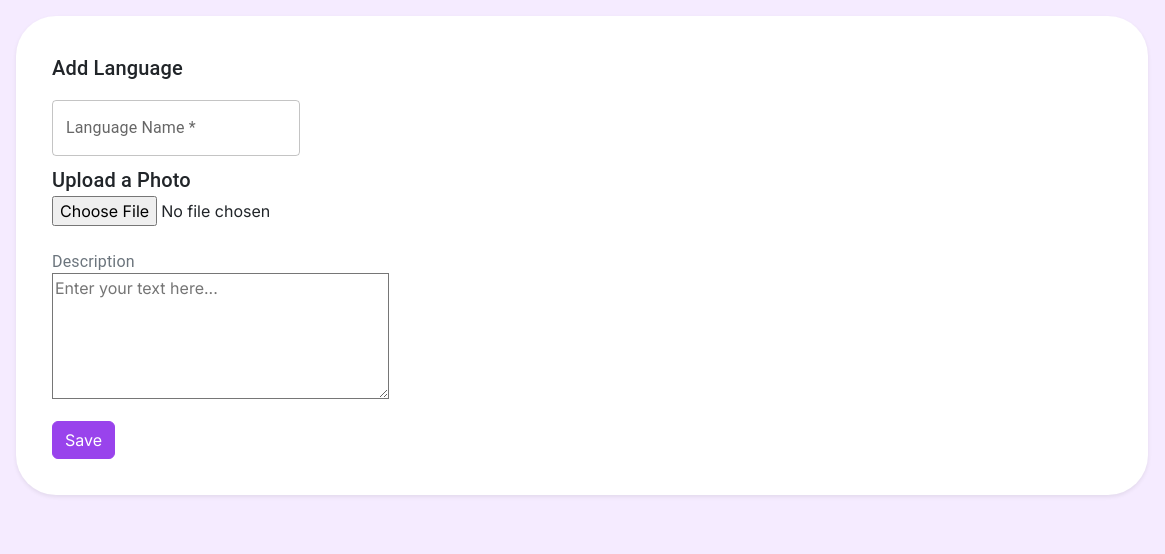
Scenario: Add Edit Language Component › should display validation errors for empty form submission
Click the button with test id "submitBtn". click: click(84, 440)
box: top-left (52, 421), bottom-right (115, 459)
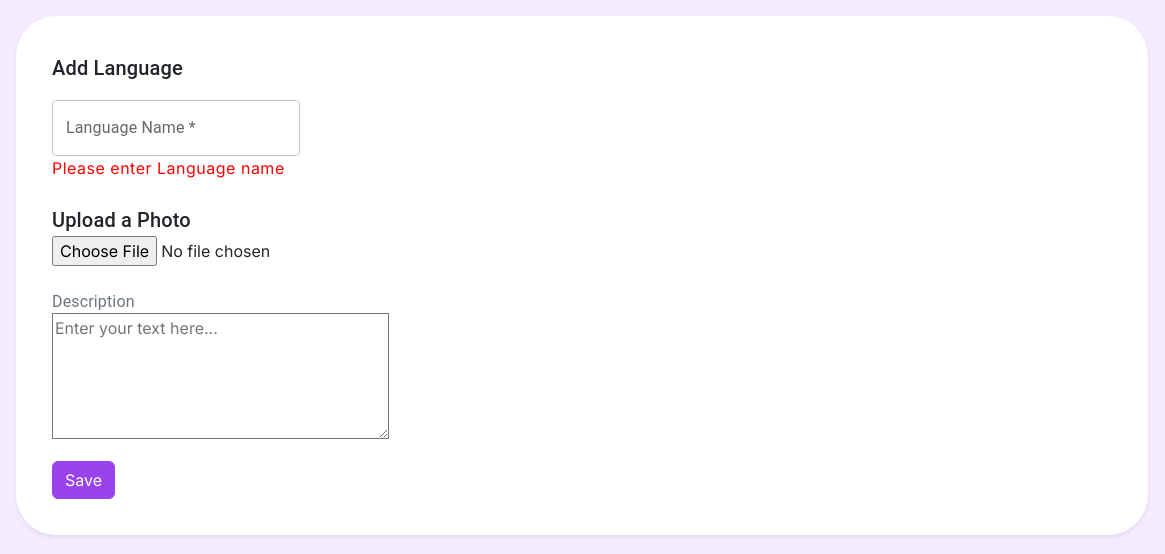
Expected: the text "Please enter Language name" is shown, top-left (52, 158), bottom-right (285, 178)
